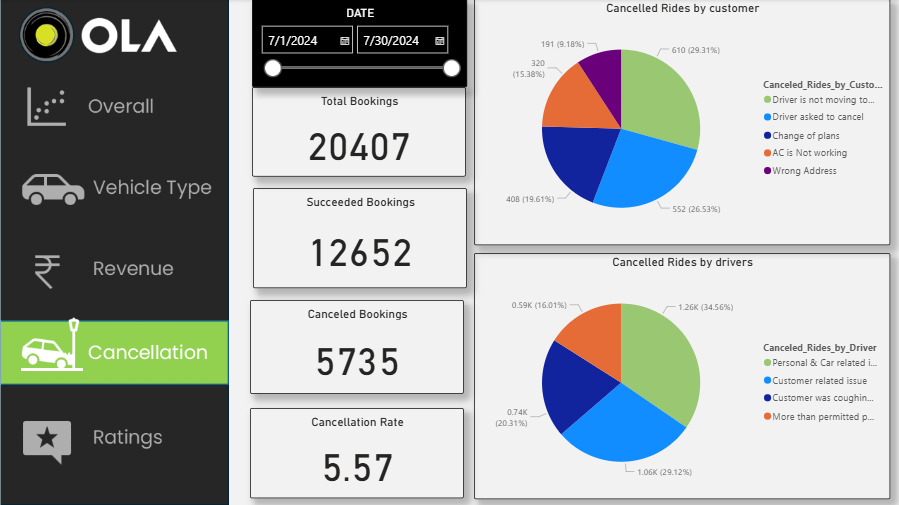

The page's visual inventory and layout, read from the dashboard file:
{"tool":"powerbi","page":{"name":"Cancellation","canvas":[1280,720],"ordinal":3},"visuals":[{"type":"actionButton","box":[0,222.5,324.6,90.7],"z":0},{"type":"actionButton","box":[0,337.3,324.6,90.7],"z":1000},{"type":"actionButton","box":[0,579.7,324.6,90.7],"z":2000},{"type":"actionButton","box":[0,106.3,324.6,90.7],"z":3000},{"type":"pieChart","title":"Cancelled Rides by customer","fields":{"Category":["July.Canceled_Rides_by_Customer"],"Y":["CountNonNull(July.Canceled_Rides_by_Customer)"]},"box":[671.4,0,590,348.6],"z":4000},{"type":"pieChart","title":"Cancelled Rides by drivers","fields":{"Category":["July.Canceled_Rides_by_Driver"],"Y":["CountNonNull(July.Canceled_Rides_by_Driver)"]},"box":[671.4,360,590,348.6],"z":5000},{"type":"slicer","title":"DATE","fields":{"Values":["July.Date"]},"box":[356.7,0,305,125],"z":6000},{"type":"card","title":"Total Bookings","fields":{"Values":["CountNonNull(July.Booking_ID)"]},"box":[356.7,125,303.3,126.7],"z":7000},{"type":"card","title":"Succeeded Bookings","fields":{"Values":["CountNonNull(July.Booking_ID)"]},"box":[358.3,268.3,303.3,141.7],"z":8000},{"type":"card","title":"Canceled Bookings","fields":{"Values":["CountNonNull(July.Booking_ID)"]},"box":[355,426.7,303.3,133.3],"z":9000},{"type":"card","title":"Cancellation Rate","fields":{"Values":["July.CanceledPercentage"]},"box":[355,580,303.3,128.3],"z":10000}]}

Visuals, with their boxes on the page's 1280x720 design canvas (x1, y1, x2, y2). These are canvas units, not pixel positions in the 899x505 screenshot, which may show the page scaled, cropped or inside an application window:
actionButton: [0,222,325,313]
actionButton: [0,337,325,428]
actionButton: [0,580,325,670]
actionButton: [0,106,325,197]
"Cancelled Rides by customer" pieChart: [671,0,1261,349]
"Cancelled Rides by drivers" pieChart: [671,360,1261,709]
"DATE" slicer: [357,0,662,125]
"Total Bookings" card: [357,125,660,252]
"Succeeded Bookings" card: [358,268,662,410]
"Canceled Bookings" card: [355,427,658,560]
"Cancellation Rate" card: [355,580,658,708]
